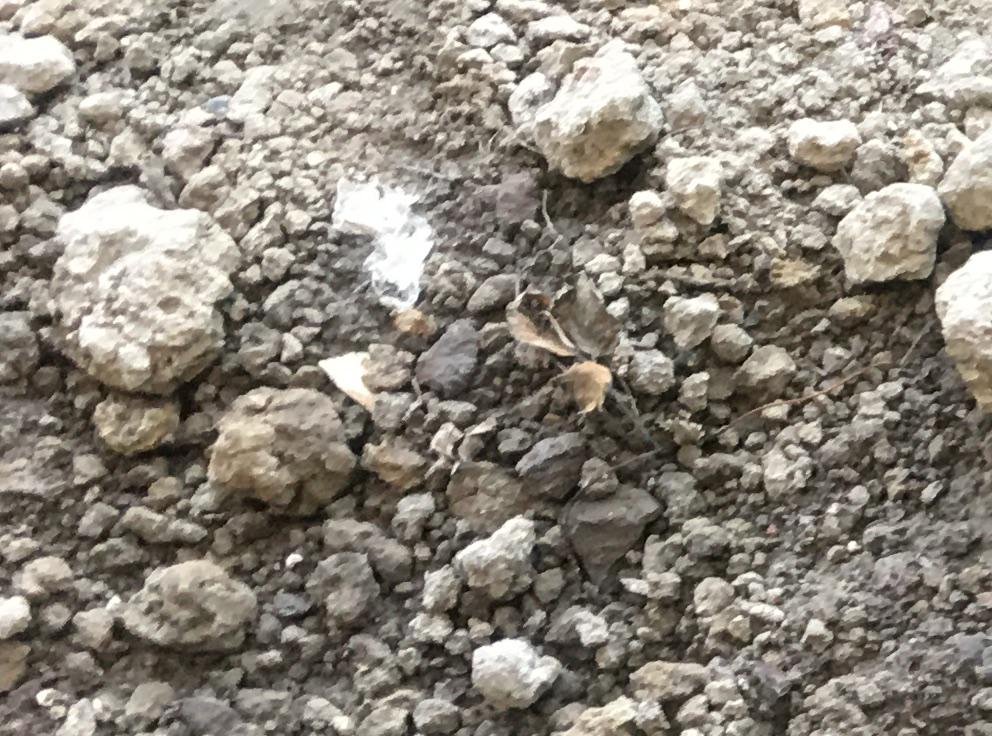block: (39, 193, 225, 387), (511, 44, 660, 178), (207, 393, 343, 510), (128, 562, 257, 666), (833, 183, 934, 288)
